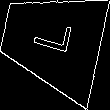L_W: (28, 20, 76, 63)
